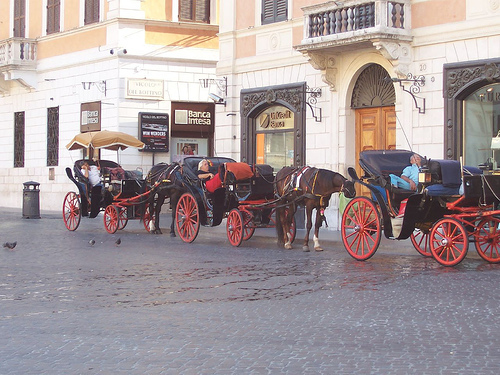horse: (273, 166, 355, 252), (136, 161, 196, 240)
